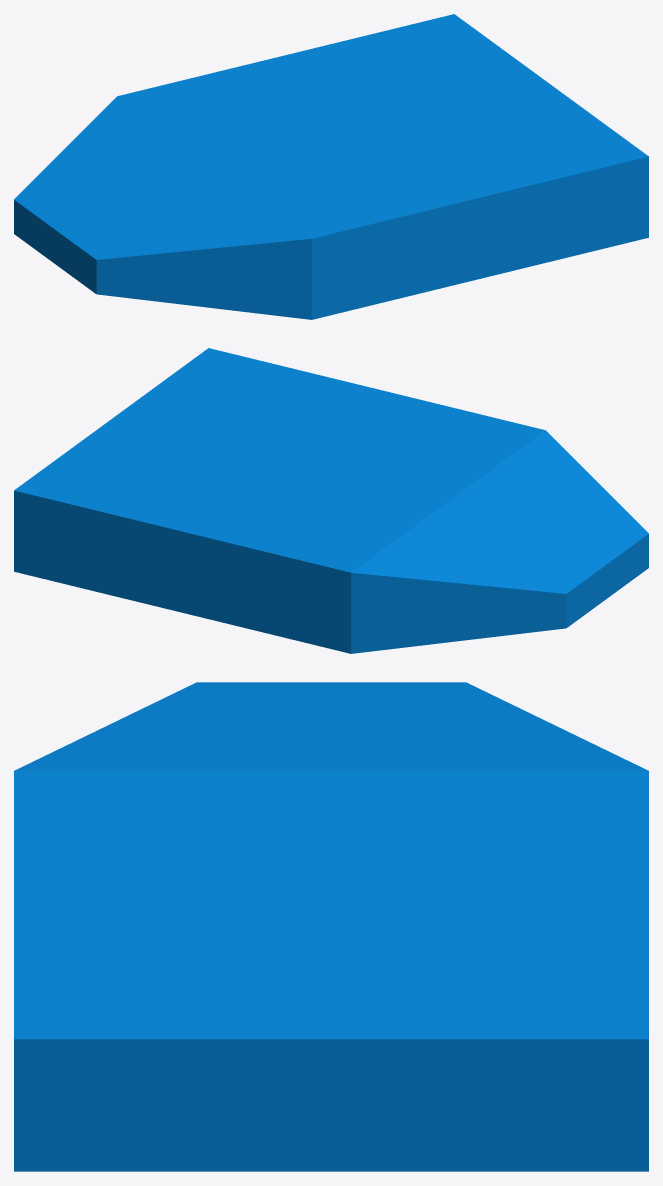
File: SimpleWorld.glb
The picture shows the model from 3 angles, top to bottom: view 1: azimuth 30°, elevation 25°; view 2: azimuth 150°, elevation 25°; view 3: azimuth 270°, elevation 25°; orthographic projection. The views are drawn at different scales.
Parts seen in each view (by area): view 1: Cube; view 2: Cube; view 3: Cube.
Boxes of the visible parts, box(x1,y1,x2,y2) form: Cube: box(14, 14, 648, 319); Cube: box(14, 348, 648, 653); Cube: box(14, 682, 648, 1171).
Size of the model in its own units: 35.41 by 5.54 by 24.05.
